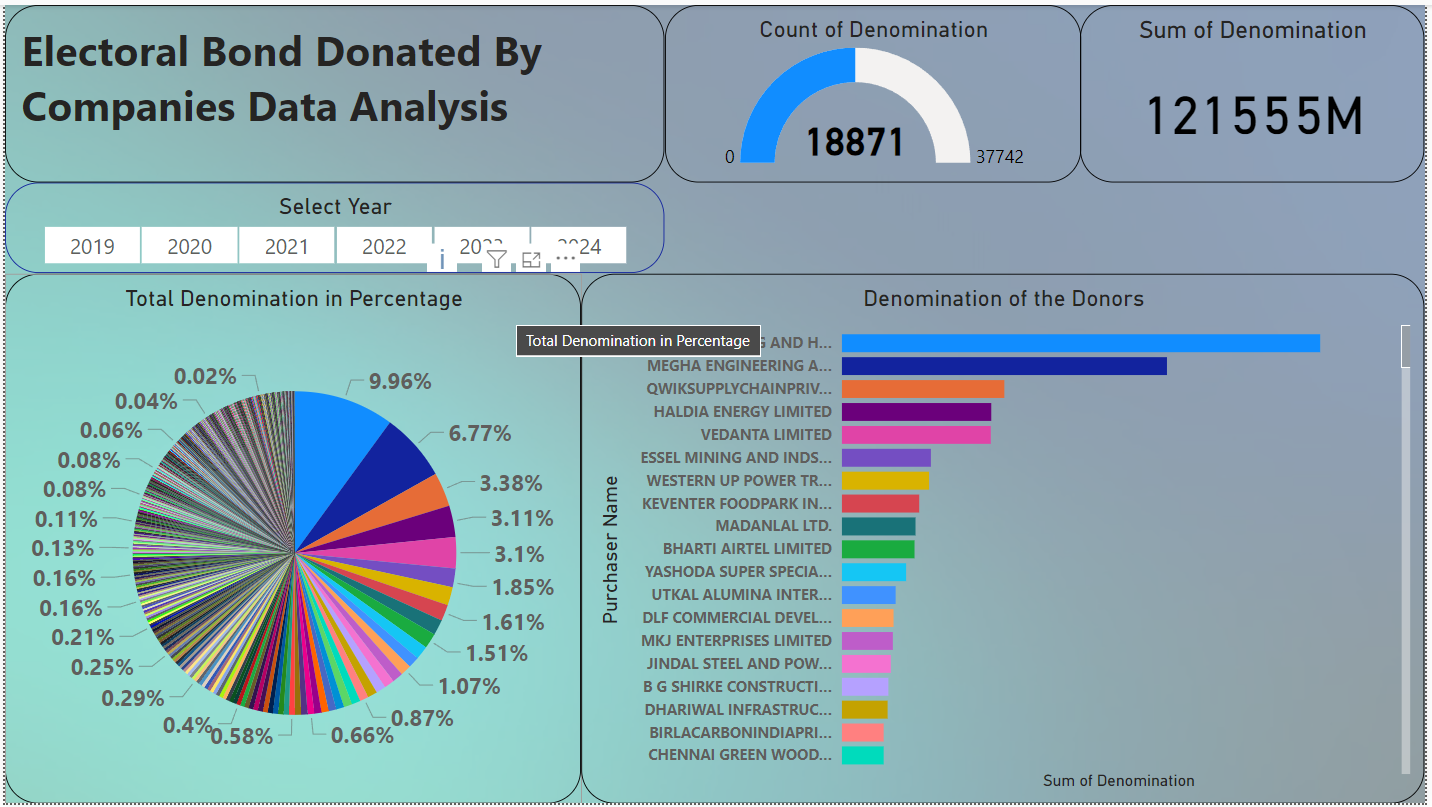

This screenshot's page, from the dashboard's own definition file:
{"tool":"powerbi","page":{"name":"Page 2","canvas":[1280,720],"ordinal":1},"visuals":[{"type":"slicer","title":"Select Year","fields":{"Values":["9VJzYYetsZ (1).Year"]},"box":[0,160.1,594.1,81.9],"z":0},{"type":"gauge","fields":{"Y":["CountNonNull(9VJzYYetsZ (1).Denomination)"]},"box":[594.4,0,375.1,160],"z":1000},{"type":"card","title":"Sum of Denomination","fields":{"Values":["Sum(9VJzYYetsZ (1).Denomination)"]},"box":[969.5,0,310.2,160.1],"z":2000},{"type":"pieChart","title":"Total Denomination in Percentage","fields":{"Category":["9VJzYYetsZ (1).Purchaser Name"],"Y":["Sum(9VJzYYetsZ (1).Denomination)"]},"box":[0,242,519.5,478],"z":3000},{"type":"barChart","title":"Denomination of the Donors","fields":{"Category":["9VJzYYetsZ (1).Purchaser Name"],"Y":["Sum(9VJzYYetsZ (1).Denomination)"],"Series":["9VJzYYetsZ (1).Purchaser Name"]},"box":[519.4,242.4,760.3,477.6],"z":4000},{"type":"textbox","box":[0,0,594.1,160.1],"z":5000}]}

Visuals, with their boxes on the page's 1280x720 design canvas (x1, y1, x2, y2). These are canvas units, not pixel positions in the 1432x807 screenshot, which may show the page scaled, cropped or inside an application window:
"Select Year" slicer: l=0, t=160, r=594, b=242
gauge - CountNonNull(9VJzYYetsZ (1).Denomination): l=594, t=0, r=970, b=160
"Sum of Denomination" card: l=970, t=0, r=1280, b=160
"Total Denomination in Percentage" pieChart: l=0, t=242, r=520, b=720
"Denomination of the Donors" barChart: l=519, t=242, r=1280, b=720
textbox: l=0, t=0, r=594, b=160
